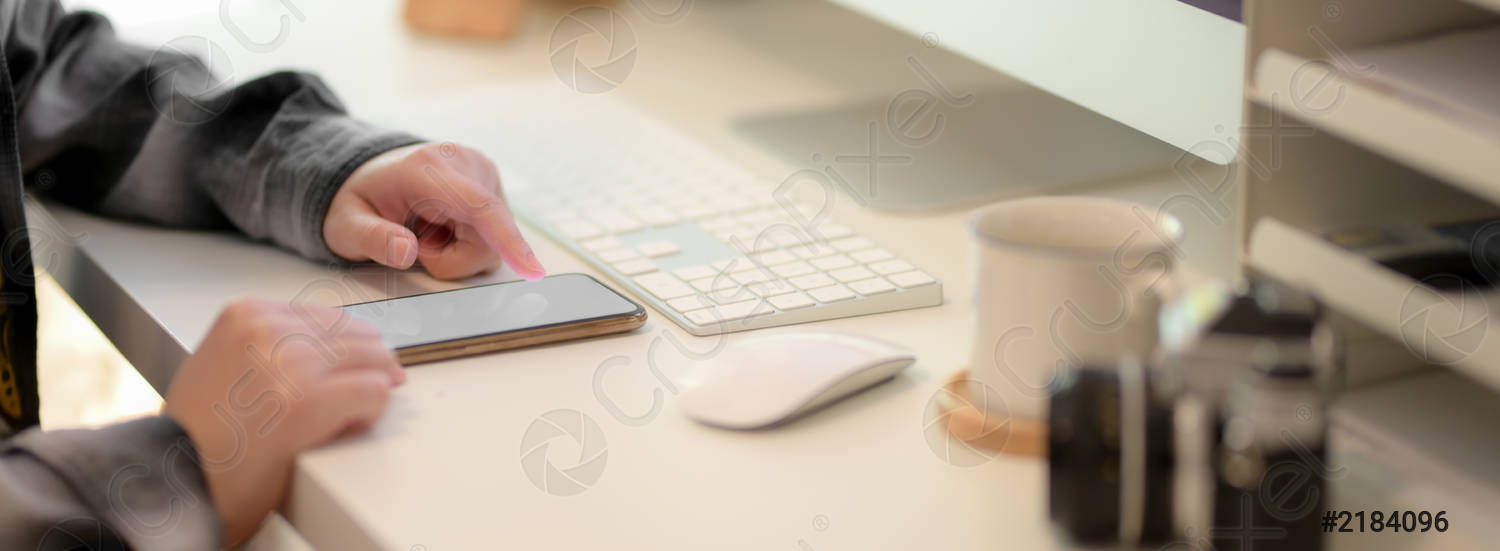Cell Phone: (286, 270, 647, 379)
